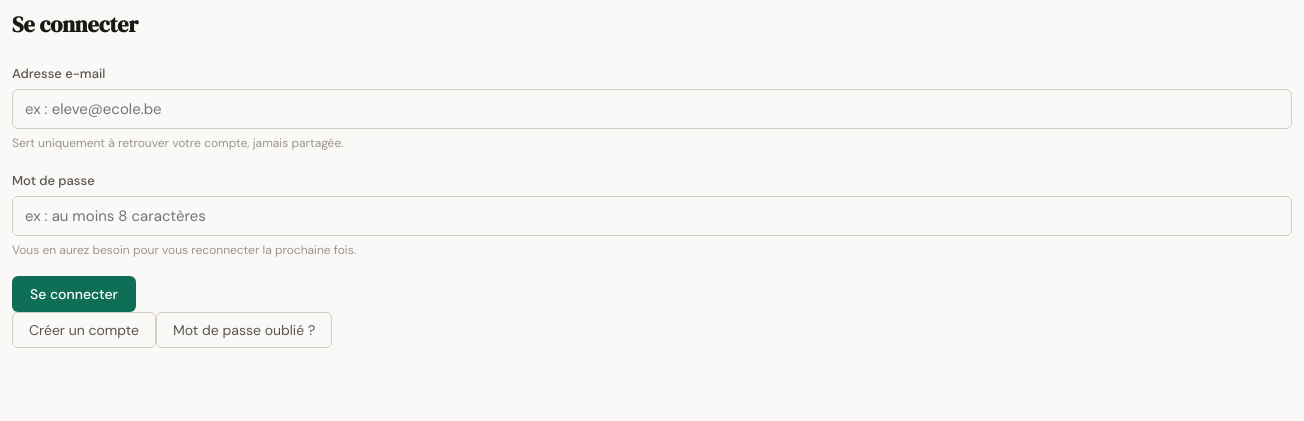
Test case: Auth › affiche une erreur générique si la connexion échoue
Type "eleve@example.com" into the field labelled "Adresse e-mail" at (652, 110), box [12,90,1292,130]
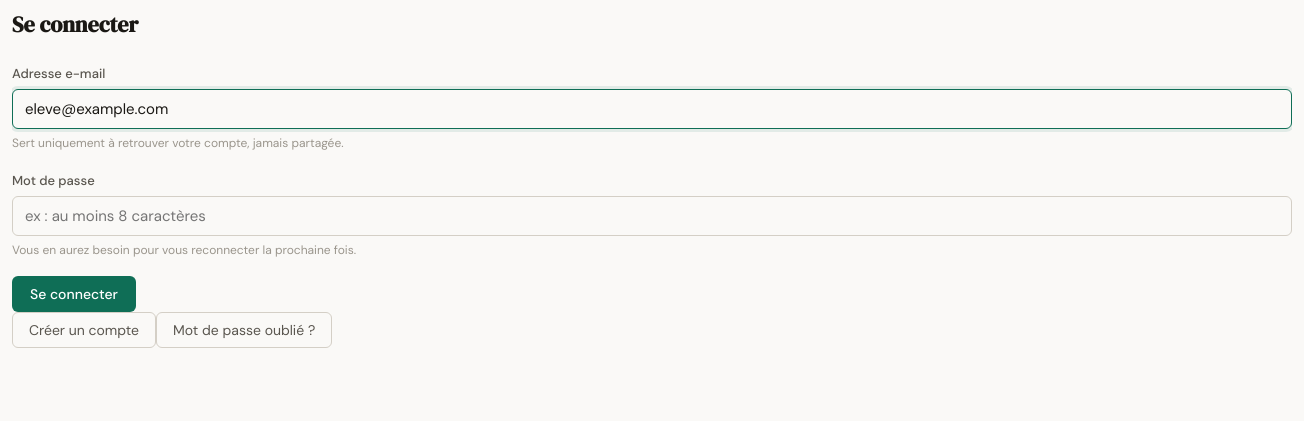
Type "mauvais" into the password field labelled "Mot de passe" at (652, 216), box [12,196,1292,236]
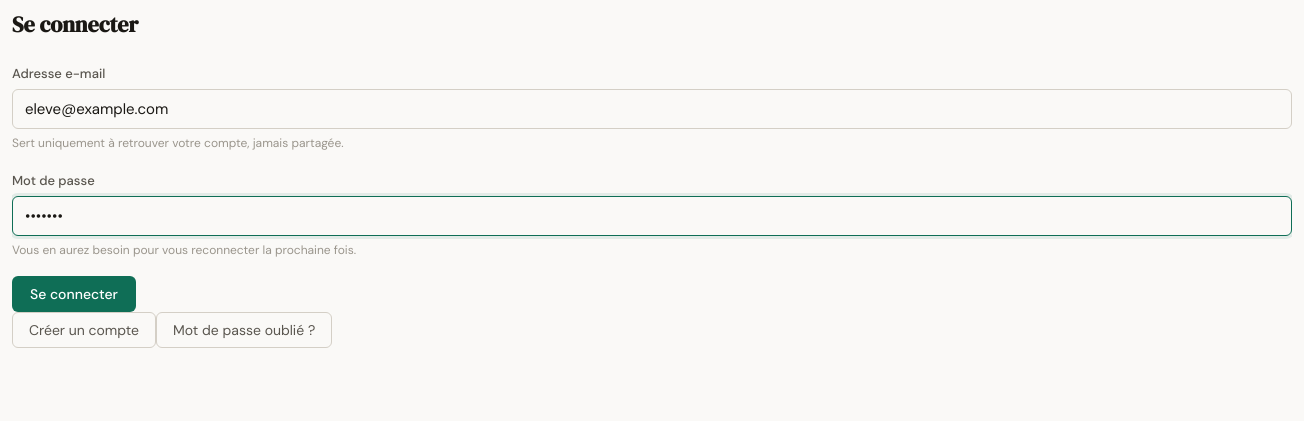
Click the button "Se connecter" at (74, 294), box [12,276,136,312]
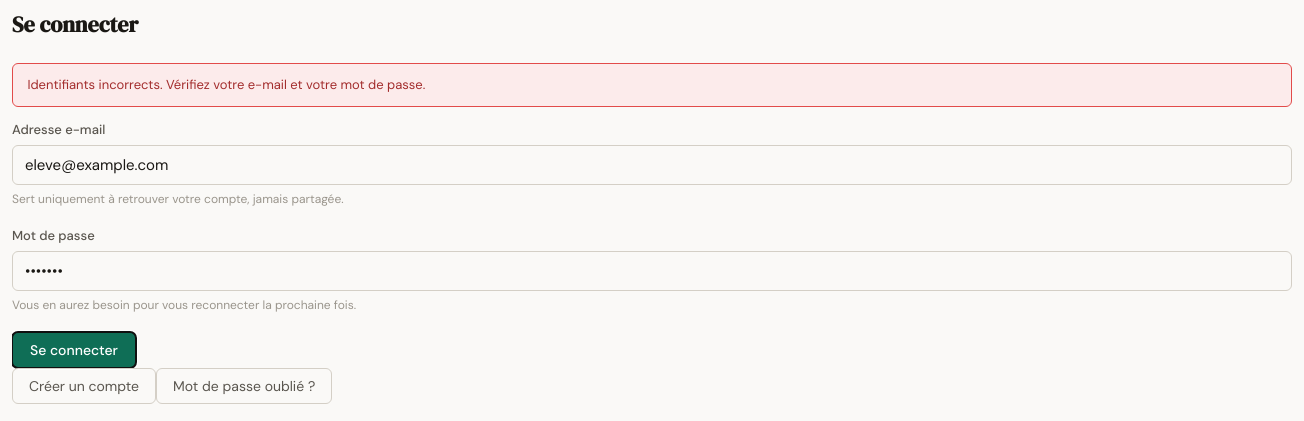
Expected: the text "Identifiants incorrects" is shown, [27,76,425,93]
